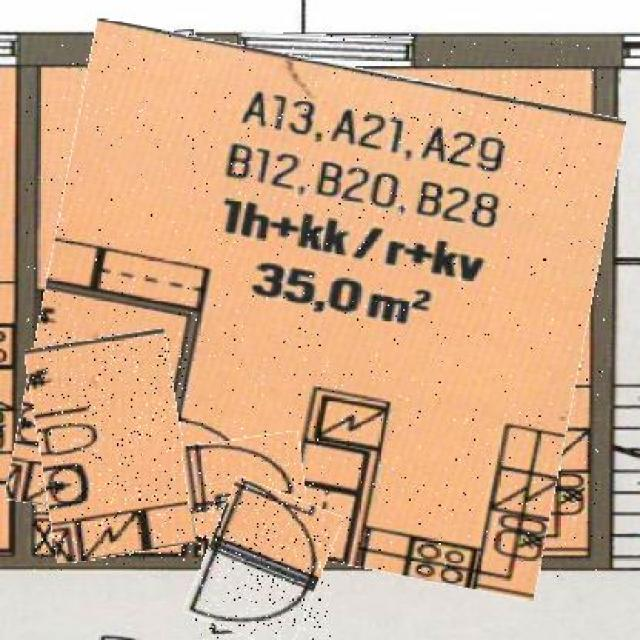door: (194, 483, 331, 640), (184, 435, 304, 511)
window: (238, 34, 414, 66), (111, 32, 195, 66)
zone: (25, 41, 606, 577), (32, 332, 190, 558)
